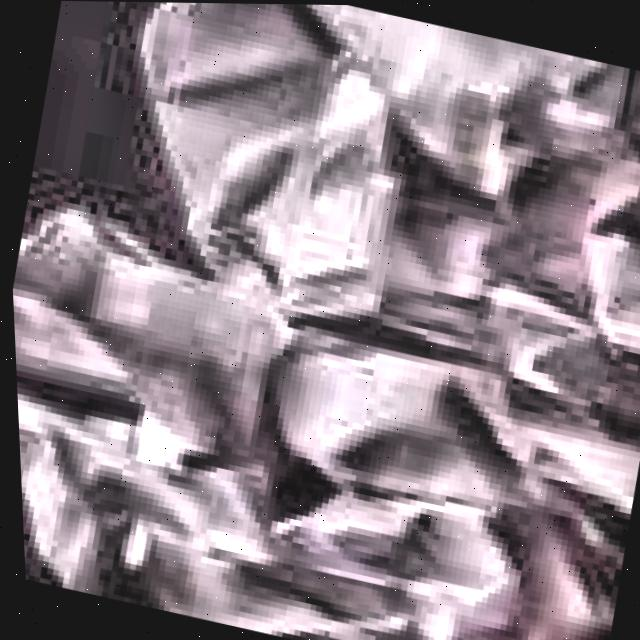paper: (10, 2, 640, 640)
